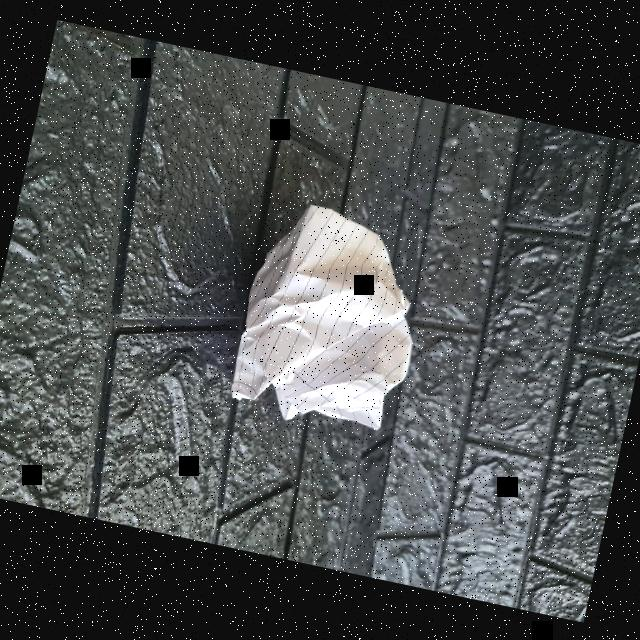scrap_paper: (218, 188, 441, 440)
